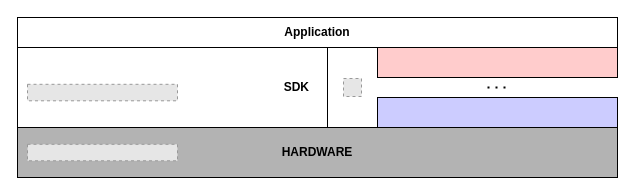
The diagram is 635 pixels wide and 195 high, and some of its shapes have lost their labels. Grey dashed boxes stand in for pictures. Here are the shapes that lost their labels. From the top down, the centre of each, then its label:
At pixel 497 62: "SDK Extension 1".
At pixel 497 112: "SDK Extension <n>".
